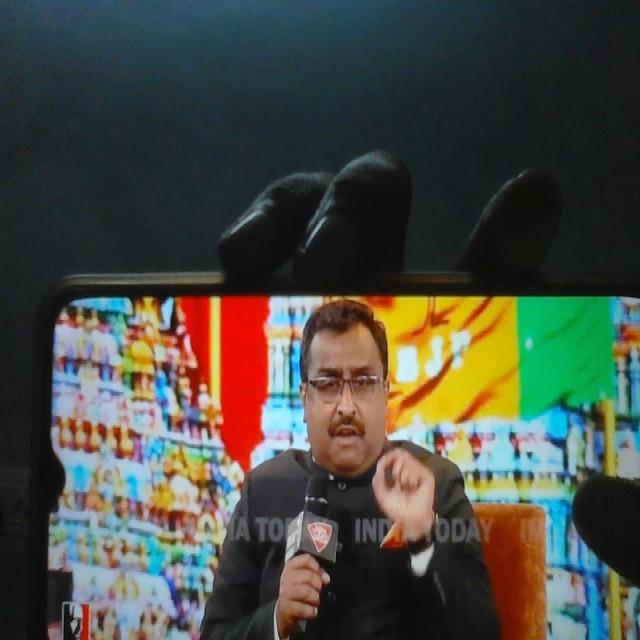fake: (292, 280, 396, 476)
